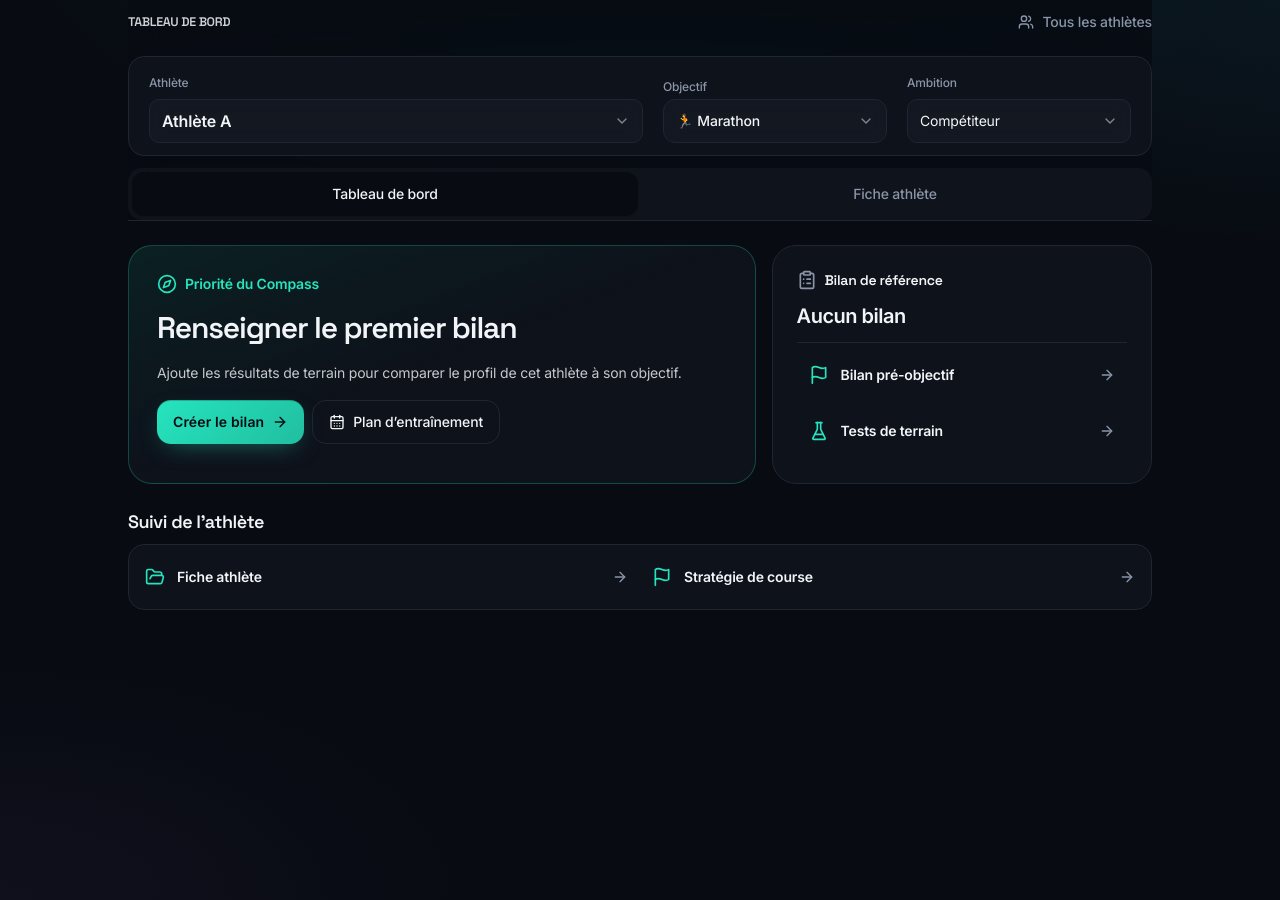
Test: Accueil coach › oriente un athlète sans bilan vers la saisie, y compris depuis un ancien lien de détail
Later steps or results of the test are not shown.
Expected: the heading "Renseigner le premier bilan" is shown, x1=157 y1=308 x2=516 y2=347
Click the link "Créer le bilan" at (231, 422), box x1=157 y1=400 x2=304 y2=444
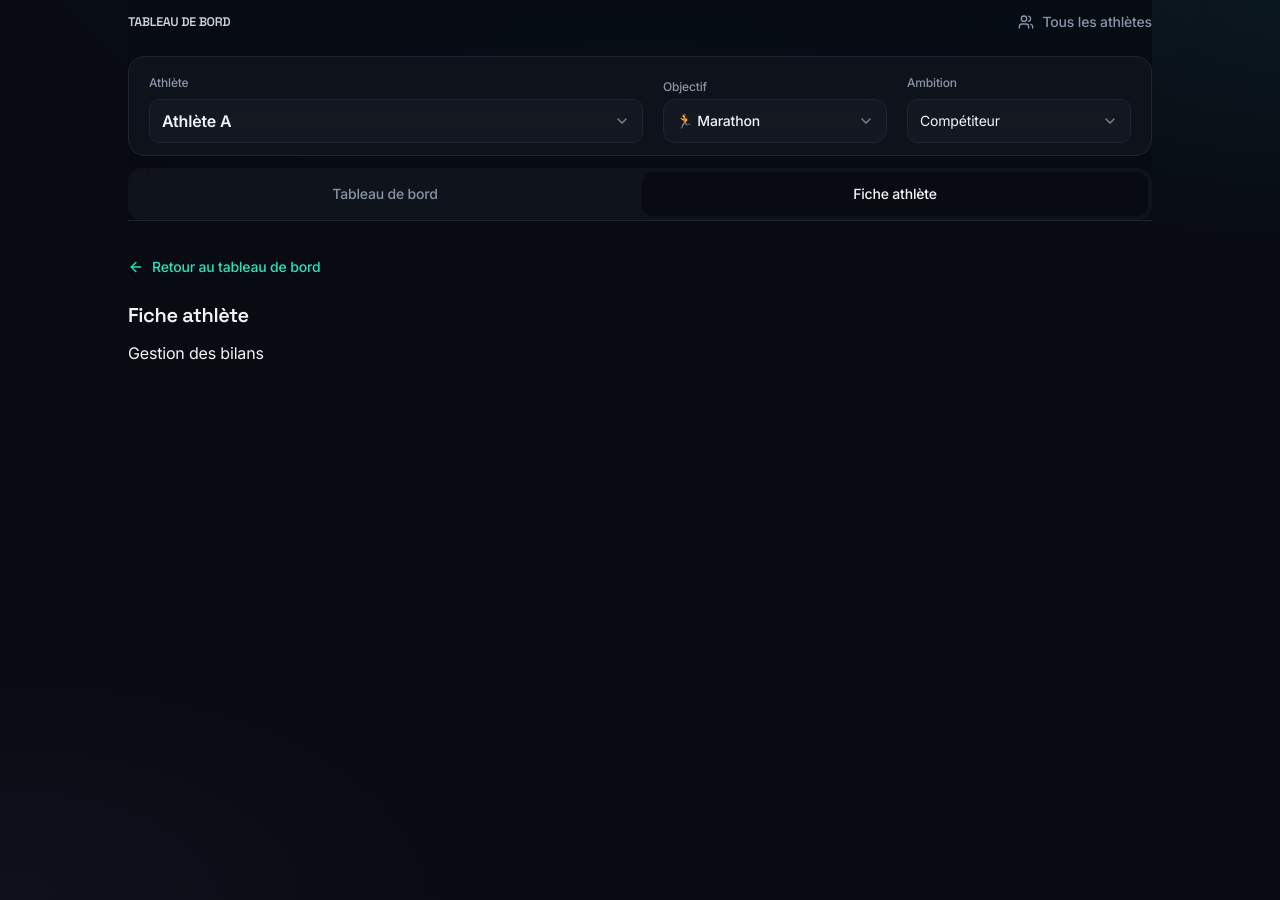
Now the text "Gestion des bilans" is shown, box x1=128 y1=343 x2=264 y2=363
